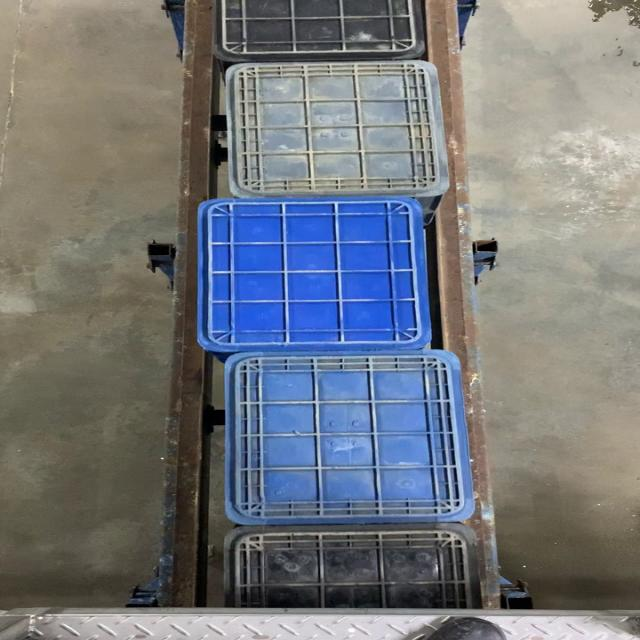Box: (218, 350, 474, 522), (199, 200, 434, 348), (224, 60, 450, 200)
